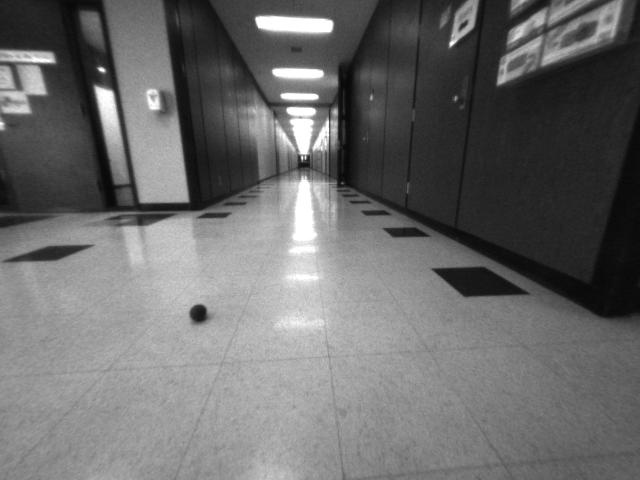dogtoy: (180, 297, 217, 328)
